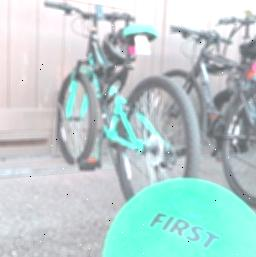algae: (102, 175, 256, 257)
